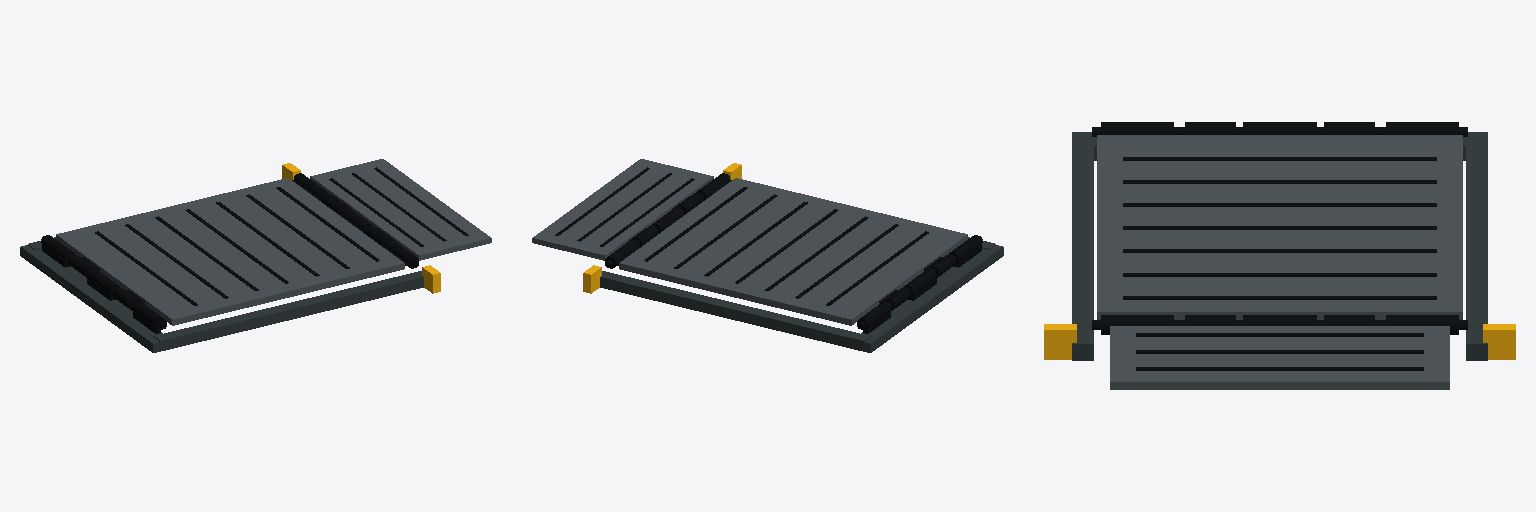
robot.urdf — mechanical_dock_leveler:
<robot name="mechanical_dock_leveler">
  <material name="dark_galvanized_steel">
    <color rgba="0.24 0.27 0.28 1" />
    </material>
  <material name="worn_deck_steel">
    <color rgba="0.34 0.37 0.38 1" />
    </material>
  <material name="blackened_hinge_steel">
    <color rgba="0.08 0.09 0.1 1" />
    </material>
  <material name="safety_yellow">
    <color rgba="1 0.74 0.1 1" />
    </material>
  <link name="pit_frame">
    <visual name="rear_crossmember">
      <origin xyz="-0.08 0 0.045" rpy="0 0 0" />
      <geometry>
        <box size="0.18 2.28 0.09" />
        </geometry>
      <material name="dark_galvanized_steel">
        <color rgba="0.24 0.27 0.28 1" />
        </material>
      </visual>
    <visual name="side_rail_negative">
      <origin xyz="1.25 -1.08 0.05" rpy="0 0 0" />
      <geometry>
        <box size="2.7 0.12 0.1" />
        </geometry>
      <material name="dark_galvanized_steel">
        <color rgba="0.24 0.27 0.28 1" />
        </material>
      </visual>
    <visual name="front_guard_negative">
      <origin xyz="2.55 -1.2 0.09" rpy="0 0 0" />
      <geometry>
        <box size="0.08 0.18 0.18" />
        </geometry>
      <material name="safety_yellow">
        <color rgba="1 0.74 0.1 1" />
        </material>
      </visual>
    <visual name="side_rail_positive">
      <origin xyz="1.25 1.08 0.05" rpy="0 0 0" />
      <geometry>
        <box size="2.7 0.12 0.1" />
        </geometry>
      <material name="dark_galvanized_steel">
        <color rgba="0.24 0.27 0.28 1" />
        </material>
      </visual>
    <visual name="front_guard_positive">
      <origin xyz="2.55 1.2 0.09" rpy="0 0 0" />
      <geometry>
        <box size="0.08 0.18 0.18" />
        </geometry>
      <material name="safety_yellow">
        <color rgba="1 0.74 0.1 1" />
        </material>
      </visual>
    <visual name="rear_hinge_lug_0">
      <origin xyz="-0.025 -0.78 0.118" rpy="0 0 0" />
      <geometry>
        <box size="0.055 0.4 0.06" />
        </geometry>
      <material name="blackened_hinge_steel">
        <color rgba="0.08 0.09 0.1 1" />
        </material>
      </visual>
    <visual name="rear_frame_knuckle_0">
      <origin xyz="0 -0.78 0.17" rpy="-1.5708 0 0" />
      <geometry>
        <cylinder radius="0.055" length="0.4" />
        </geometry>
      <material name="blackened_hinge_steel">
        <color rgba="0.08 0.09 0.1 1" />
        </material>
      </visual>
    <visual name="rear_hinge_lug_1">
      <origin xyz="-0.025 0 0.118" rpy="0 0 0" />
      <geometry>
        <box size="0.055 0.4 0.06" />
        </geometry>
      <material name="blackened_hinge_steel">
        <color rgba="0.08 0.09 0.1 1" />
        </material>
      </visual>
    <visual name="rear_frame_knuckle_1">
      <origin xyz="0 0 0.17" rpy="-1.5708 0 0" />
      <geometry>
        <cylinder radius="0.055" length="0.4" />
        </geometry>
      <material name="blackened_hinge_steel">
        <color rgba="0.08 0.09 0.1 1" />
        </material>
      </visual>
    <visual name="rear_hinge_lug_2">
      <origin xyz="-0.025 0.78 0.118" rpy="0 0 0" />
      <geometry>
        <box size="0.055 0.4 0.06" />
        </geometry>
      <material name="blackened_hinge_steel">
        <color rgba="0.08 0.09 0.1 1" />
        </material>
      </visual>
    <visual name="rear_frame_knuckle_2">
      <origin xyz="0 0.78 0.17" rpy="-1.5708 0 0" />
      <geometry>
        <cylinder radius="0.055" length="0.4" />
        </geometry>
      <material name="blackened_hinge_steel">
        <color rgba="0.08 0.09 0.1 1" />
        </material>
      </visual>
    <visual name="rear_hinge_pin">
      <origin xyz="0 0 0.17" rpy="-1.5708 0 0" />
      <geometry>
        <cylinder radius="0.026" length="2.06" />
        </geometry>
      <material name="blackened_hinge_steel">
        <color rgba="0.08 0.09 0.1 1" />
        </material>
      </visual>
    <collision name="rear_crossmember">
      <origin xyz="-0.08 0 0.045" rpy="0 0 0" />
      <geometry>
        <box size="0.18 2.28 0.09" />
        </geometry>
      </collision>
    <collision name="side_rail_negative">
      <origin xyz="1.25 -1.08 0.05" rpy="0 0 0" />
      <geometry>
        <box size="2.7 0.12 0.1" />
        </geometry>
      </collision>
    <collision name="front_guard_negative">
      <origin xyz="2.55 -1.2 0.09" rpy="0 0 0" />
      <geometry>
        <box size="0.08 0.18 0.18" />
        </geometry>
      </collision>
    <collision name="side_rail_positive">
      <origin xyz="1.25 1.08 0.05" rpy="0 0 0" />
      <geometry>
        <box size="2.7 0.12 0.1" />
        </geometry>
      </collision>
    <collision name="front_guard_positive">
      <origin xyz="2.55 1.2 0.09" rpy="0 0 0" />
      <geometry>
        <box size="0.08 0.18 0.18" />
        </geometry>
      </collision>
    <collision name="rear_hinge_lug_0">
      <origin xyz="-0.025 -0.78 0.118" rpy="0 0 0" />
      <geometry>
        <box size="0.055 0.4 0.06" />
        </geometry>
      </collision>
    <collision name="rear_frame_knuckle_0">
      <origin xyz="0 -0.78 0.17" rpy="-1.5708 0 0" />
      <geometry>
        <cylinder radius="0.055" length="0.4" />
        </geometry>
      </collision>
    <collision name="rear_hinge_lug_1">
      <origin xyz="-0.025 0 0.118" rpy="0 0 0" />
      <geometry>
        <box size="0.055 0.4 0.06" />
        </geometry>
      </collision>
    <collision name="rear_frame_knuckle_1">
      <origin xyz="0 0 0.17" rpy="-1.5708 0 0" />
      <geometry>
        <cylinder radius="0.055" length="0.4" />
        </geometry>
      </collision>
    <collision name="rear_hinge_lug_2">
      <origin xyz="-0.025 0.78 0.118" rpy="0 0 0" />
      <geometry>
        <box size="0.055 0.4 0.06" />
        </geometry>
      </collision>
    <collision name="rear_frame_knuckle_2">
      <origin xyz="0 0.78 0.17" rpy="-1.5708 0 0" />
      <geometry>
        <cylinder radius="0.055" length="0.4" />
        </geometry>
      </collision>
    <collision name="rear_hinge_pin">
      <origin xyz="0 0 0.17" rpy="-1.5708 0 0" />
      <geometry>
        <cylinder radius="0.026" length="2.06" />
        </geometry>
      </collision>
    </link>
  <link name="deck_plate">
    <visual name="deck_panel">
      <origin xyz="1.25 0 0" rpy="0 0 0" />
      <geometry>
        <box size="2.3 2 0.06" />
        </geometry>
      <material name="worn_deck_steel">
        <color rgba="0.34 0.37 0.38 1" />
        </material>
      </visual>
    <visual name="underside_rib_1">
      <origin xyz="1.25 -0.68 -0.087" rpy="0 0 0" />
      <geometry>
        <box size="2.05 0.07 0.115" />
        </geometry>
      <material name="blackened_hinge_steel">
        <color rgba="0.08 0.09 0.1 1" />
        </material>
      </visual>
    <visual name="underside_rib_2">
      <origin xyz="1.25 0 -0.087" rpy="0 0 0" />
      <geometry>
        <box size="2.05 0.07 0.115" />
        </geometry>
      <material name="blackened_hinge_steel">
        <color rgba="0.08 0.09 0.1 1" />
        </material>
      </visual>
    <visual name="underside_rib_3">
      <origin xyz="1.25 0.68 -0.087" rpy="0 0 0" />
      <geometry>
        <box size="2.05 0.07 0.115" />
        </geometry>
      <material name="blackened_hinge_steel">
        <color rgba="0.08 0.09 0.1 1" />
        </material>
      </visual>
    <visual name="deck_tread_0">
      <origin xyz="0.42 0 0.034" rpy="0 0 0" />
      <geometry>
        <box size="0.035 1.72 0.008" />
        </geometry>
      <material name="blackened_hinge_steel">
        <color rgba="0.08 0.09 0.1 1" />
        </material>
      </visual>
    <visual name="deck_tread_1">
      <origin xyz="0.72 0 0.034" rpy="0 0 0" />
      <geometry>
        <box size="0.035 1.72 0.008" />
        </geometry>
      <material name="blackened_hinge_steel">
        <color rgba="0.08 0.09 0.1 1" />
        </material>
      </visual>
    <visual name="deck_tread_2">
      <origin xyz="1.02 0 0.034" rpy="0 0 0" />
      <geometry>
        <box size="0.035 1.72 0.008" />
        </geometry>
      <material name="blackened_hinge_steel">
        <color rgba="0.08 0.09 0.1 1" />
        </material>
      </visual>
    <visual name="deck_tread_3">
      <origin xyz="1.32 0 0.034" rpy="0 0 0" />
      <geometry>
        <box size="0.035 1.72 0.008" />
        </geometry>
      <material name="blackened_hinge_steel">
        <color rgba="0.08 0.09 0.1 1" />
        </material>
      </visual>
    <visual name="deck_tread_4">
      <origin xyz="1.62 0 0.034" rpy="0 0 0" />
      <geometry>
        <box size="0.035 1.72 0.008" />
        </geometry>
      <material name="blackened_hinge_steel">
        <color rgba="0.08 0.09 0.1 1" />
        </material>
      </visual>
    <visual name="deck_tread_5">
      <origin xyz="1.92 0 0.034" rpy="0 0 0" />
      <geometry>
        <box size="0.035 1.72 0.008" />
        </geometry>
      <material name="blackened_hinge_steel">
        <color rgba="0.08 0.09 0.1 1" />
        </material>
      </visual>
    <visual name="deck_tread_6">
      <origin xyz="2.22 0 0.034" rpy="0 0 0" />
      <geometry>
        <box size="0.035 1.72 0.008" />
        </geometry>
      <material name="blackened_hinge_steel">
        <color rgba="0.08 0.09 0.1 1" />
        </material>
      </visual>
    <visual name="rear_hinge_leaf_0">
      <origin xyz="0.0775 -0.38 0" rpy="0 0 0" />
      <geometry>
        <box size="0.055 0.28 0.02" />
        </geometry>
      <material name="blackened_hinge_steel">
        <color rgba="0.08 0.09 0.1 1" />
        </material>
      </visual>
    <visual name="rear_deck_knuckle_0">
      <origin xyz="0 -0.38 0" rpy="-1.5708 0 0" />
      <geometry>
        <cylinder radius="0.055" length="0.28" />
        </geometry>
      <material name="blackened_hinge_steel">
        <color rgba="0.08 0.09 0.1 1" />
        </material>
      </visual>
    <visual name="rear_hinge_leaf_1">
      <origin xyz="0.0775 0.38 0" rpy="0 0 0" />
      <geometry>
        <box size="0.055 0.28 0.02" />
        </geometry>
      <material name="blackened_hinge_steel">
        <color rgba="0.08 0.09 0.1 1" />
        </material>
      </visual>
    <visual name="rear_deck_knuckle_1">
      <origin xyz="0 0.38 0" rpy="-1.5708 0 0" />
      <geometry>
        <cylinder radius="0.055" length="0.28" />
        </geometry>
      <material name="blackened_hinge_steel">
        <color rgba="0.08 0.09 0.1 1" />
        </material>
      </visual>
    <visual name="front_hinge_leaf_0">
      <origin xyz="2.415 -0.78 0" rpy="0 0 0" />
      <geometry>
        <box size="0.06 0.4 0.02" />
        </geometry>
      <material name="blackened_hinge_steel">
        <color rgba="0.08 0.09 0.1 1" />
        </material>
      </visual>
    <visual name="front_deck_knuckle_0">
      <origin xyz="2.5 -0.78 0" rpy="-1.5708 0 0" />
      <geometry>
        <cylinder radius="0.055" length="0.4" />
        </geometry>
      <material name="blackened_hinge_steel">
        <color rgba="0.08 0.09 0.1 1" />
        </material>
      </visual>
    <visual name="front_hinge_leaf_1">
      <origin xyz="2.415 0 0" rpy="0 0 0" />
      <geometry>
        <box size="0.06 0.4 0.02" />
        </geometry>
      <material name="blackened_hinge_steel">
        <color rgba="0.08 0.09 0.1 1" />
        </material>
      </visual>
    <visual name="front_deck_knuckle_1">
      <origin xyz="2.5 0 0" rpy="-1.5708 0 0" />
      <geometry>
        <cylinder radius="0.055" length="0.4" />
        </geometry>
      <material name="blackened_hinge_steel">
        <color rgba="0.08 0.09 0.1 1" />
        </material>
      </visual>
    <visual name="front_hinge_leaf_2">
      <origin xyz="2.415 0.78 0" rpy="0 0 0" />
      <geometry>
        <box size="0.06 0.4 0.02" />
        </geometry>
      <material name="blackened_hinge_steel">
        <color rgba="0.08 0.09 0.1 1" />
        </material>
      </visual>
    <visual name="front_deck_knuckle_2">
      <origin xyz="2.5 0.78 0" rpy="-1.5708 0 0" />
      <geometry>
        <cylinder radius="0.055" length="0.4" />
        </geometry>
      <material name="blackened_hinge_steel">
        <color rgba="0.08 0.09 0.1 1" />
        </material>
      </visual>
    <visual name="front_hinge_pin">
      <origin xyz="2.5 0 0" rpy="-1.5708 0 0" />
      <geometry>
        <cylinder radius="0.026" length="2.06" />
        </geometry>
      <material name="blackened_hinge_steel">
        <color rgba="0.08 0.09 0.1 1" />
        </material>
      </visual>
    <collision name="deck_panel">
      <origin xyz="1.25 0 0" rpy="0 0 0" />
      <geometry>
        <box size="2.3 2 0.06" />
        </geometry>
      </collision>
    <collision name="underside_rib_1">
      <origin xyz="1.25 -0.68 -0.087" rpy="0 0 0" />
      <geometry>
        <box size="2.05 0.07 0.115" />
        </geometry>
      </collision>
    <collision name="underside_rib_2">
      <origin xyz="1.25 0 -0.087" rpy="0 0 0" />
      <geometry>
        <box size="2.05 0.07 0.115" />
        </geometry>
      </collision>
    <collision name="underside_rib_3">
      <origin xyz="1.25 0.68 -0.087" rpy="0 0 0" />
      <geometry>
        <box size="2.05 0.07 0.115" />
        </geometry>
      </collision>
    <collision name="deck_tread_0">
      <origin xyz="0.42 0 0.034" rpy="0 0 0" />
      <geometry>
        <box size="0.035 1.72 0.008" />
        </geometry>
      </collision>
    <collision name="deck_tread_1">
      <origin xyz="0.72 0 0.034" rpy="0 0 0" />
      <geometry>
        <box size="0.035 1.72 0.008" />
        </geometry>
      </collision>
    <collision name="deck_tread_2">
      <origin xyz="1.02 0 0.034" rpy="0 0 0" />
      <geometry>
        <box size="0.035 1.72 0.008" />
        </geometry>
      </collision>
    <collision name="deck_tread_3">
      <origin xyz="1.32 0 0.034" rpy="0 0 0" />
      <geometry>
        <box size="0.035 1.72 0.008" />
        </geometry>
      </collision>
    <collision name="deck_tread_4">
      <origin xyz="1.62 0 0.034" rpy="0 0 0" />
      <geometry>
        <box size="0.035 1.72 0.008" />
        </geometry>
      </collision>
    <collision name="deck_tread_5">
      <origin xyz="1.92 0 0.034" rpy="0 0 0" />
      <geometry>
        <box size="0.035 1.72 0.008" />
        </geometry>
      </collision>
    <collision name="deck_tread_6">
      <origin xyz="2.22 0 0.034" rpy="0 0 0" />
      <geometry>
        <box size="0.035 1.72 0.008" />
        </geometry>
      </collision>
    <collision name="rear_hinge_leaf_0">
      <origin xyz="0.0775 -0.38 0" rpy="0 0 0" />
      <geometry>
        <box size="0.055 0.28 0.02" />
        </geometry>
      </collision>
    <collision name="rear_deck_knuckle_0">
      <origin xyz="0 -0.38 0" rpy="-1.5708 0 0" />
      <geometry>
        <cylinder radius="0.055" length="0.28" />
        </geometry>
      </collision>
    <collision name="rear_hinge_leaf_1">
      <origin xyz="0.0775 0.38 0" rpy="0 0 0" />
      <geometry>
        <box size="0.055 0.28 0.02" />
        </geometry>
      </collision>
    <collision name="rear_deck_knuckle_1">
      <origin xyz="0 0.38 0" rpy="-1.5708 0 0" />
      <geometry>
        <cylinder radius="0.055" length="0.28" />
        </geometry>
      </collision>
    <collision name="front_hinge_leaf_0">
      <origin xyz="2.415 -0.78 0" rpy="0 0 0" />
      <geometry>
        <box size="0.06 0.4 0.02" />
        </geometry>
      </collision>
    <collision name="front_deck_knuckle_0">
      <origin xyz="2.5 -0.78 0" rpy="-1.5708 0 0" />
      <geometry>
        <cylinder radius="0.055" length="0.4" />
        </geometry>
      </collision>
    <collision name="front_hinge_leaf_1">
      <origin xyz="2.415 0 0" rpy="0 0 0" />
      <geometry>
        <box size="0.06 0.4 0.02" />
        </geometry>
      </collision>
    <collision name="front_deck_knuckle_1">
      <origin xyz="2.5 0 0" rpy="-1.5708 0 0" />
      <geometry>
        <cylinder radius="0.055" length="0.4" />
        </geometry>
      </collision>
    <collision name="front_hinge_leaf_2">
      <origin xyz="2.415 0.78 0" rpy="0 0 0" />
      <geometry>
        <box size="0.06 0.4 0.02" />
        </geometry>
      </collision>
    <collision name="front_deck_knuckle_2">
      <origin xyz="2.5 0.78 0" rpy="-1.5708 0 0" />
      <geometry>
        <cylinder radius="0.055" length="0.4" />
        </geometry>
      </collision>
    <collision name="front_hinge_pin">
      <origin xyz="2.5 0 0" rpy="-1.5708 0 0" />
      <geometry>
        <cylinder radius="0.026" length="2.06" />
        </geometry>
      </collision>
    </link>
  <link name="folding_lip">
    <visual name="lip_panel">
      <origin xyz="0.44 0 0.005" rpy="0 0 0" />
      <geometry>
        <box size="0.72 1.86 0.05" />
        </geometry>
      <material name="worn_deck_steel">
        <color rgba="0.34 0.37 0.38 1" />
        </material>
      </visual>
    <visual name="lip_tread_0">
      <origin xyz="0.2 0 0.033" rpy="0 0 0" />
      <geometry>
        <box size="0.03 1.58 0.007" />
        </geometry>
      <material name="blackened_hinge_steel">
        <color rgba="0.08 0.09 0.1 1" />
        </material>
      </visual>
    <visual name="lip_tread_1">
      <origin xyz="0.42 0 0.033" rpy="0 0 0" />
      <geometry>
        <box size="0.03 1.58 0.007" />
        </geometry>
      <material name="blackened_hinge_steel">
        <color rgba="0.08 0.09 0.1 1" />
        </material>
      </visual>
    <visual name="lip_tread_2">
      <origin xyz="0.64 0 0.033" rpy="0 0 0" />
      <geometry>
        <box size="0.03 1.58 0.007" />
        </geometry>
      <material name="blackened_hinge_steel">
        <color rgba="0.08 0.09 0.1 1" />
        </material>
      </visual>
    <visual name="lip_hinge_leaf_0">
      <origin xyz="0.0775 -0.38 0" rpy="0 0 0" />
      <geometry>
        <box size="0.055 0.28 0.018" />
        </geometry>
      <material name="blackened_hinge_steel">
        <color rgba="0.08 0.09 0.1 1" />
        </material>
      </visual>
    <visual name="lip_knuckle_0">
      <origin xyz="0 -0.38 0" rpy="-1.5708 0 0" />
      <geometry>
        <cylinder radius="0.055" length="0.28" />
        </geometry>
      <material name="blackened_hinge_steel">
        <color rgba="0.08 0.09 0.1 1" />
        </material>
      </visual>
    <visual name="lip_hinge_leaf_1">
      <origin xyz="0.0775 0.38 0" rpy="0 0 0" />
      <geometry>
        <box size="0.055 0.28 0.018" />
        </geometry>
      <material name="blackened_hinge_steel">
        <color rgba="0.08 0.09 0.1 1" />
        </material>
      </visual>
    <visual name="lip_knuckle_1">
      <origin xyz="0 0.38 0" rpy="-1.5708 0 0" />
      <geometry>
        <cylinder radius="0.055" length="0.28" />
        </geometry>
      <material name="blackened_hinge_steel">
        <color rgba="0.08 0.09 0.1 1" />
        </material>
      </visual>
    <collision name="lip_panel">
      <origin xyz="0.44 0 0.005" rpy="0 0 0" />
      <geometry>
        <box size="0.72 1.86 0.05" />
        </geometry>
      </collision>
    <collision name="lip_tread_0">
      <origin xyz="0.2 0 0.033" rpy="0 0 0" />
      <geometry>
        <box size="0.03 1.58 0.007" />
        </geometry>
      </collision>
    <collision name="lip_tread_1">
      <origin xyz="0.42 0 0.033" rpy="0 0 0" />
      <geometry>
        <box size="0.03 1.58 0.007" />
        </geometry>
      </collision>
    <collision name="lip_tread_2">
      <origin xyz="0.64 0 0.033" rpy="0 0 0" />
      <geometry>
        <box size="0.03 1.58 0.007" />
        </geometry>
      </collision>
    <collision name="lip_hinge_leaf_0">
      <origin xyz="0.0775 -0.38 0" rpy="0 0 0" />
      <geometry>
        <box size="0.055 0.28 0.018" />
        </geometry>
      </collision>
    <collision name="lip_knuckle_0">
      <origin xyz="0 -0.38 0" rpy="-1.5708 0 0" />
      <geometry>
        <cylinder radius="0.055" length="0.28" />
        </geometry>
      </collision>
    <collision name="lip_hinge_leaf_1">
      <origin xyz="0.0775 0.38 0" rpy="0 0 0" />
      <geometry>
        <box size="0.055 0.28 0.018" />
        </geometry>
      </collision>
    <collision name="lip_knuckle_1">
      <origin xyz="0 0.38 0" rpy="-1.5708 0 0" />
      <geometry>
        <cylinder radius="0.055" length="0.28" />
        </geometry>
      </collision>
    </link>
  <joint name="frame_to_deck" type="revolute">
    <origin xyz="0 0 0.17" rpy="0 0 0" />
    <parent link="pit_frame" />
    <child link="deck_plate" />
    <axis xyz="0 -1 0" />
    <limit effort="12000" velocity="0.35" lower="0" upper="0.35" />
    </joint>
  <joint name="deck_to_lip" type="revolute">
    <origin xyz="2.5 0 0" rpy="0 0 0" />
    <parent link="deck_plate" />
    <child link="folding_lip" />
    <axis xyz="0 1 0" />
    <limit effort="3500" velocity="0.8" lower="0" upper="1.25" />
    </joint>
  </robot>

--- Render facts (derived) ---
Views: 3 orthographic renders of the robot side by side, from view 1: azimuth 30°, elevation 25°; view 2: azimuth 150°, elevation 25°; view 3: azimuth 270°, elevation 25°.
Model mechanical_dock_leveler with 3 links and 2 joints (2 revolute), rooted at pit_frame, posed every joint at zero.
Links seen in each view (by area): view 1: deck_plate, pit_frame, folding_lip; view 2: deck_plate, pit_frame, folding_lip; view 3: deck_plate, folding_lip, pit_frame.
Link boxes in pixels (<box>): deck_plate: <box>56,173,418,325</box>; pit_frame: <box>20,163,440,352</box>; folding_lip: <box>310,159,491,260</box>; deck_plate: <box>605,173,967,325</box>; pit_frame: <box>583,163,1003,352</box>; folding_lip: <box>532,159,713,260</box>; deck_plate: <box>1092,122,1467,334</box>; folding_lip: <box>1110,315,1449,389</box>; pit_frame: <box>1044,122,1515,360</box>.
Size in the robot's own frame: 3.47 by 2.58 by 0.225 metres.
Geometry: primitives only (box / cylinder / sphere), no mesh files.
